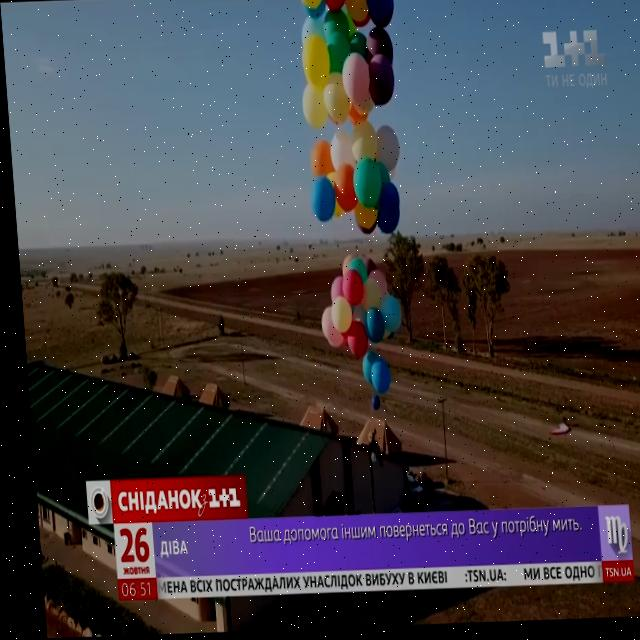balloon: (340, 54, 371, 105), (349, 161, 380, 208), (367, 57, 394, 107), (325, 35, 352, 84), (323, 76, 350, 124), (302, 43, 330, 89), (329, 167, 355, 215), (307, 179, 334, 224), (367, 28, 396, 69), (374, 191, 398, 235), (350, 121, 376, 161), (372, 129, 398, 168), (301, 90, 325, 131), (327, 132, 352, 168), (324, 12, 351, 43), (307, 144, 331, 177), (297, 21, 326, 48), (342, 324, 363, 359), (378, 300, 398, 336), (318, 310, 336, 349), (358, 311, 378, 346), (338, 272, 358, 306), (358, 279, 378, 313), (367, 0, 393, 25), (327, 300, 347, 332), (350, 206, 377, 229), (367, 362, 385, 396), (357, 354, 375, 388), (346, 0, 369, 23), (323, 277, 343, 302), (368, 270, 384, 301), (349, 34, 368, 57), (349, 110, 368, 126), (348, 260, 360, 282), (300, 0, 325, 9), (361, 261, 374, 277), (323, 0, 346, 9), (365, 398, 374, 411), (345, 0, 371, 4)
